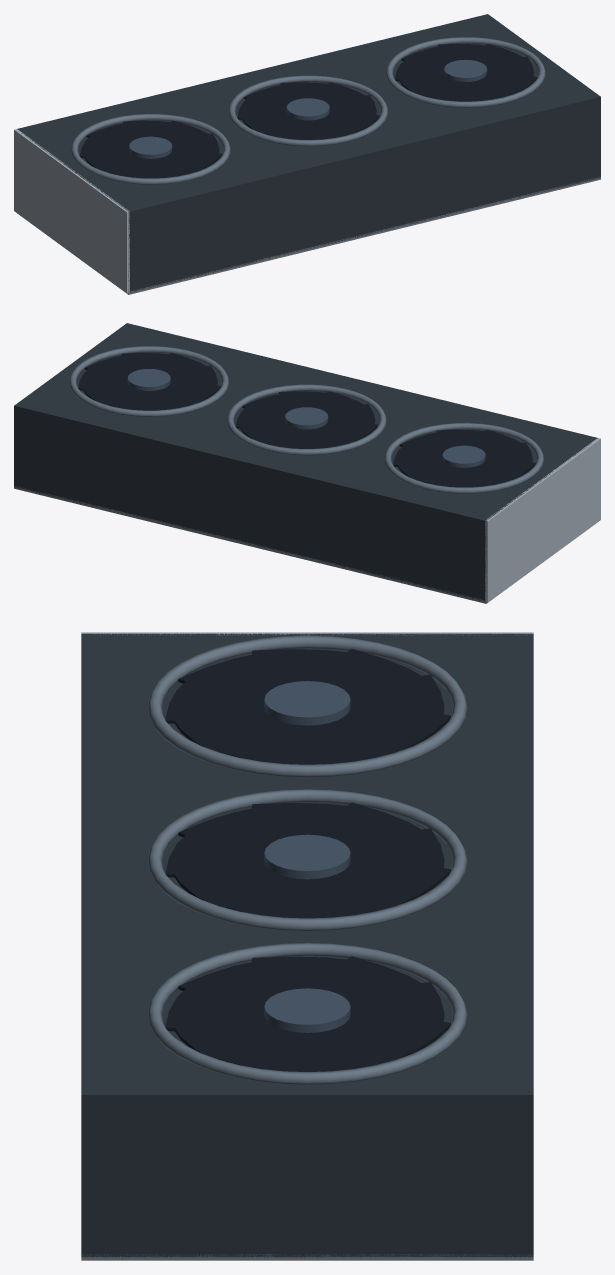
File: retail-gigabyte-geforce-rtx-5070-ti-windforce-oc-sff-16g.glb
3 renders of one model, top to bottom at view 1: azimuth 30°, elevation 25°; view 2: azimuth 150°, elevation 25°; view 3: azimuth 270°, elevation 25°, orthographic. The views are drawn at different scales.
Visible parts, largest first — view 1: Cooler shroud, Cooler blade (×27), Bracket, Fan rim (×3), Fan hub (×3), Backplate; view 2: Cooler shroud, Cooler blade (×27), Bracket, Fan rim (×3), Fan hub (×3), Backplate; view 3: Cooler shroud, Cooler blade (×27), Fan rim (×3), Fan hub (×3), Backplate, Bracket.
Part boxes in pixels (x1=…): Cooler shroud: x1=17, y1=14, x2=600, y2=292; Cooler blade (×27): x1=79, y1=44, x2=537, y2=178; Bracket: x1=14, y1=129, x2=129, y2=293; Fan rim (×3): x1=71, y1=37, x2=545, y2=184; Fan hub (×3): x1=129, y1=59, x2=487, y2=158; Backplate: x1=20, y1=177, x2=600, y2=294; Cooler shroud: x1=14, y1=323, x2=598, y2=601; Cooler blade (×27): x1=78, y1=352, x2=535, y2=487; Bracket: x1=485, y1=438, x2=600, y2=602; Fan rim (×3): x1=69, y1=346, x2=543, y2=493; Fan hub (×3): x1=127, y1=368, x2=485, y2=467; Backplate: x1=14, y1=485, x2=594, y2=603; Cooler shroud: x1=81, y1=633, x2=533, y2=1257; Cooler blade (×27): x1=165, y1=649, x2=451, y2=1071; Fan rim (×3): x1=147, y1=635, x2=467, y2=1084; Fan hub (×3): x1=264, y1=681, x2=350, y2=1032; Backplate: x1=81, y1=1254, x2=533, y2=1260; Bracket: x1=81, y1=632, x2=533, y2=635.
Bounding box in the file's own units: 0.305 × 0.0545 × 0.126.
